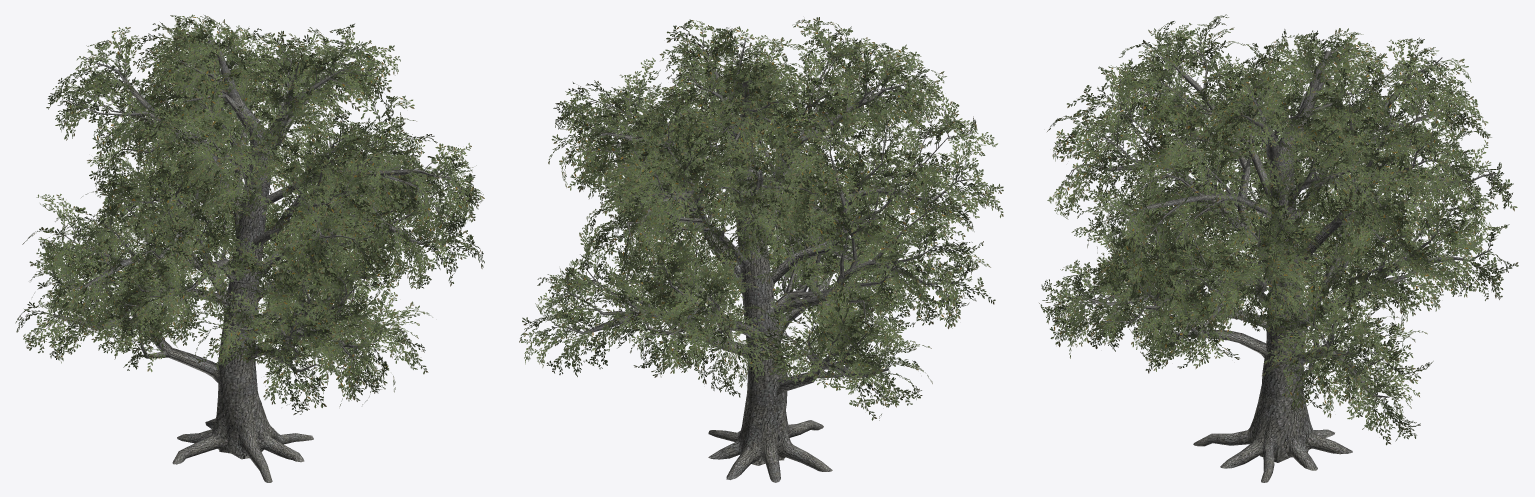
The model's file is Oak.fbx.
3 views of the same model, side by side, from view 1: azimuth 30°, elevation 25°; view 2: azimuth 150°, elevation 25°; view 3: azimuth 270°, elevation 25° (orthographic).
Visible parts, largest first — view 1: Oak_LOD0; view 2: Oak_LOD0; view 3: Oak_LOD0.
Boxes of the visible parts, x1,y1,x2,y2 form: Oak_LOD0: [15, 14, 484, 482]; Oak_LOD0: [519, 17, 1003, 482]; Oak_LOD0: [1039, 14, 1518, 482].
Size of what is drawn, in the model's own units: 18.27 by 17.41 by 18.53.
Materials: 2 (2 with a texture image).
